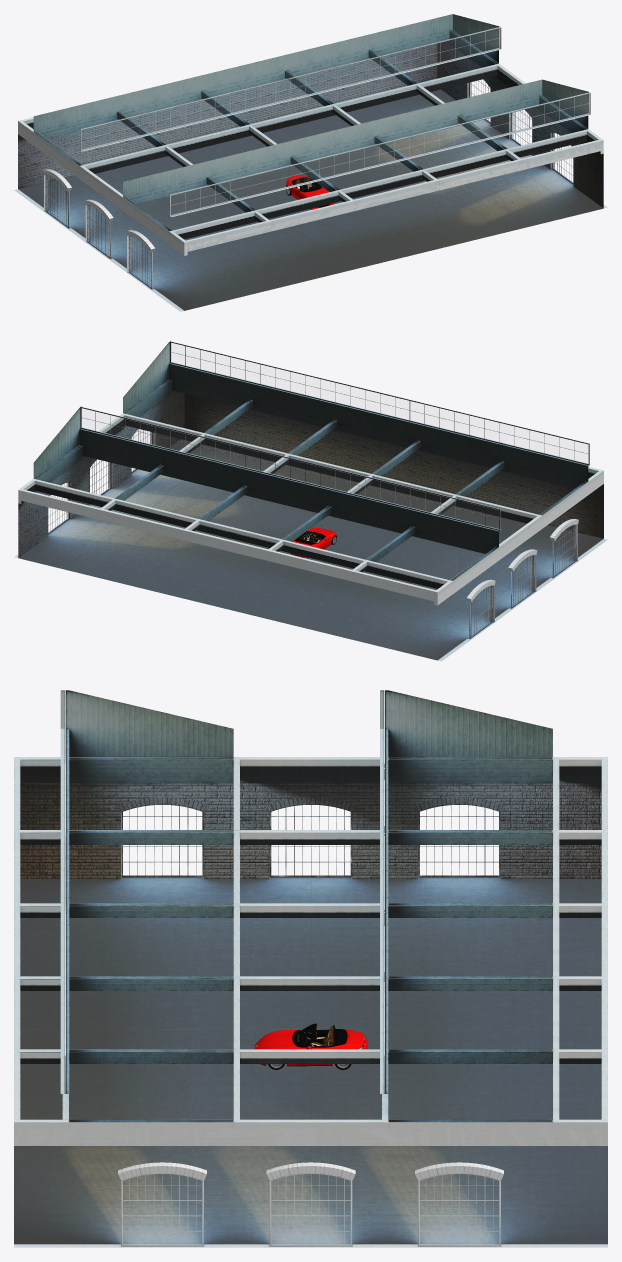
Rendered from mazda1_st3d00.gltf.
The picture shows the model from 3 angles, top to bottom: view 1: azimuth 30°, elevation 25°; view 2: azimuth 150°, elevation 25°; view 3: azimuth 270°, elevation 25°; orthographic projection. The views are drawn at different scales.
Parts seen in each view (by area): view 1: floor, beams, walls, roof, windows; view 2: floor, beams, roof, walls, windows; view 3: floor, beams, walls, roof, windows.
Part boxes in pixels (x1,y1,x2,y2): floor: [14, 89, 607, 311]; beams: [18, 30, 603, 255]; walls: [18, 41, 603, 272]; roof: [33, 14, 590, 217]; windows: [45, 27, 589, 289]; floor: [14, 439, 607, 661]; beams: [18, 379, 603, 605]; roof: [33, 341, 590, 548]; walls: [18, 391, 603, 622]; windows: [48, 341, 589, 638]; floor: [14, 875, 607, 1247]; beams: [14, 757, 607, 1145]; walls: [20, 783, 601, 1180]; roof: [60, 690, 552, 1093]; windows: [64, 690, 500, 1246].
Size of the model in its own units: 4156 by 987 by 2800.
45 materials, 6 textured.
